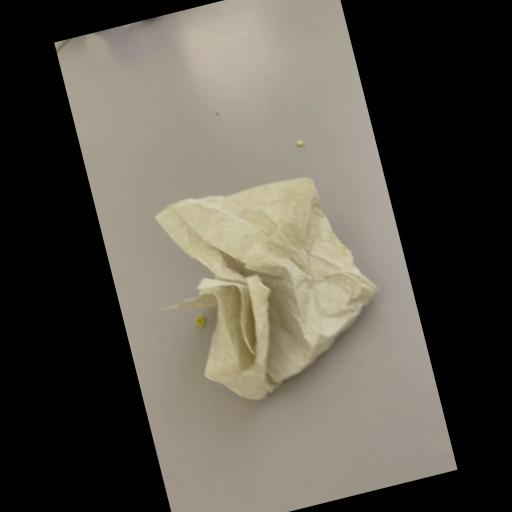napkin: (140, 160, 396, 414)
